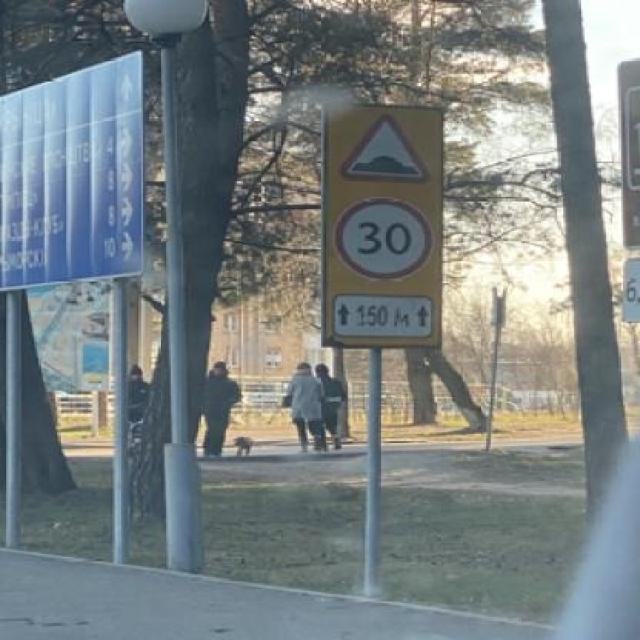forb_speed_over_30: (336, 198, 433, 278)
